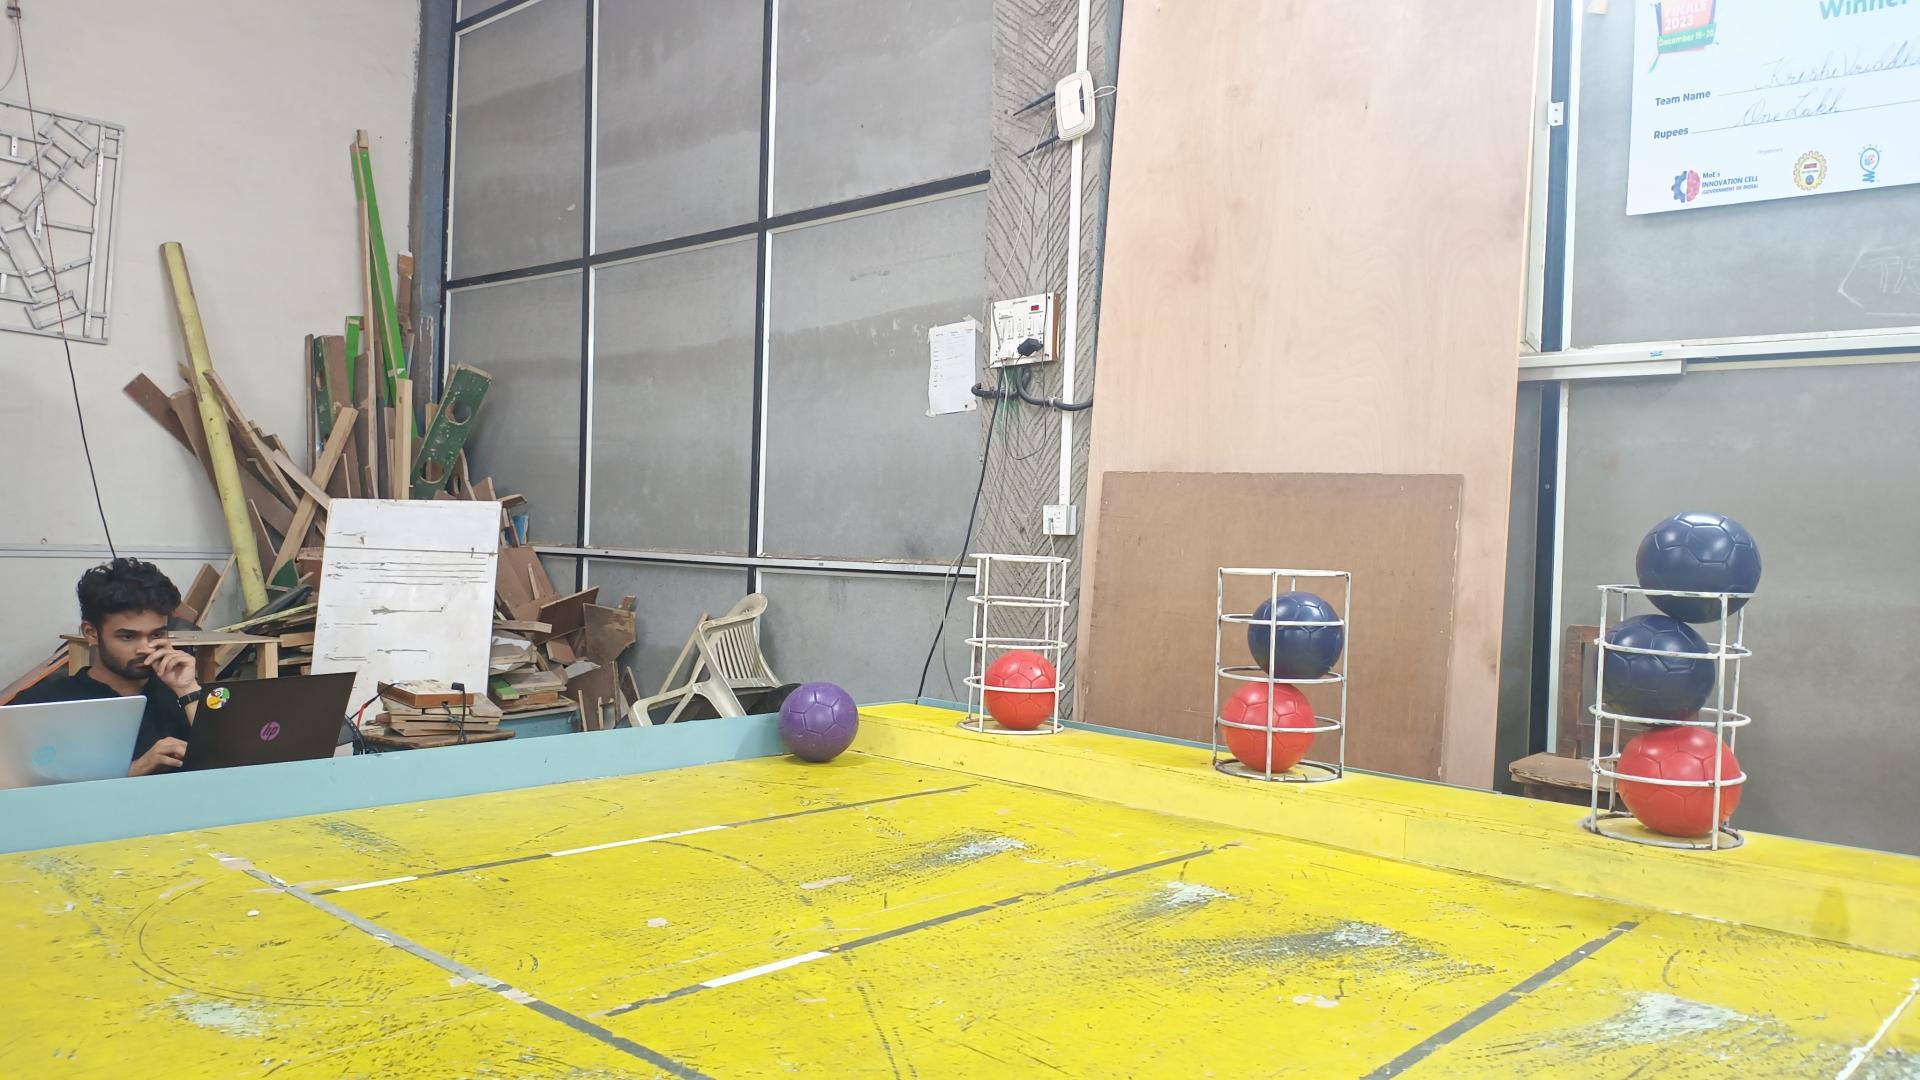dhoka: (1635, 510, 1763, 622), (1594, 615, 1717, 720), (1249, 592, 1342, 679)
laale: (1617, 724, 1743, 840), (1218, 683, 1316, 773), (982, 649, 1058, 732)
